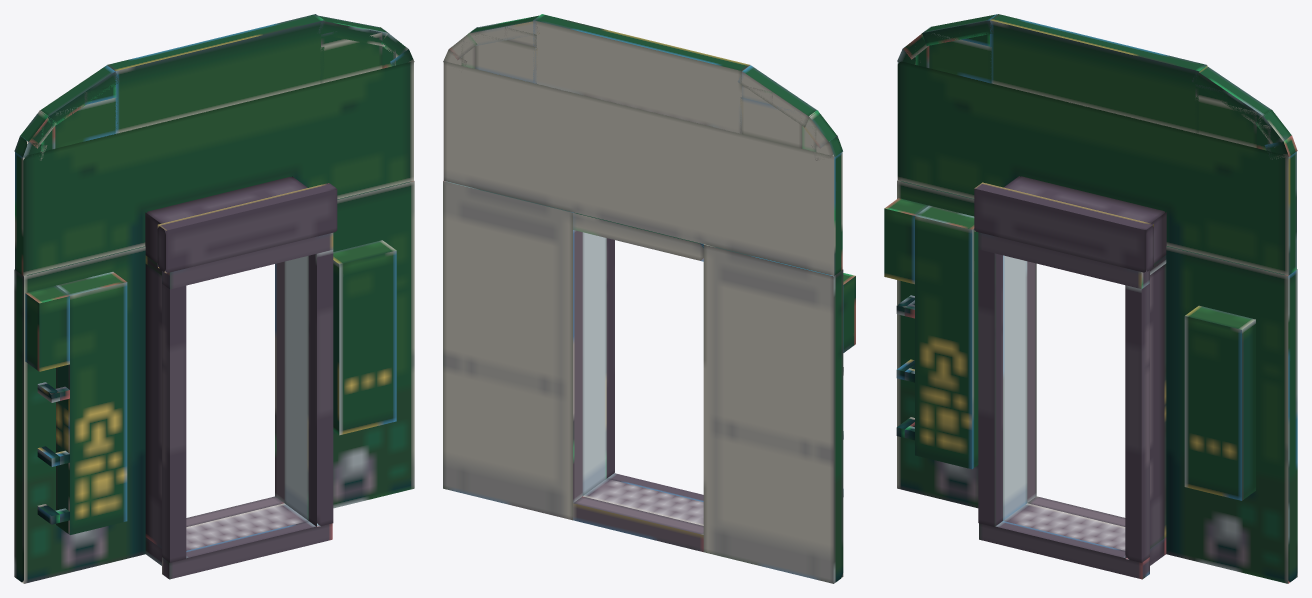
File: end_face_original_25b_1.obj
3 renders of one model, left to right at view 1: azimuth 30°, elevation 25°; view 2: azimuth 150°, elevation 25°; view 3: azimuth 330°, elevation 25°, orthographic.
Parts seen in each view (by area): view 1: cube; view 2: cube; view 3: cube.
Part boxes in pixels (x1,y1,x2,y2): cube: (14, 14, 414, 583); cube: (443, 14, 855, 583); cube: (884, 14, 1297, 583).
Size of the model in its own units: 3 by 3.58 by 0.5562.
